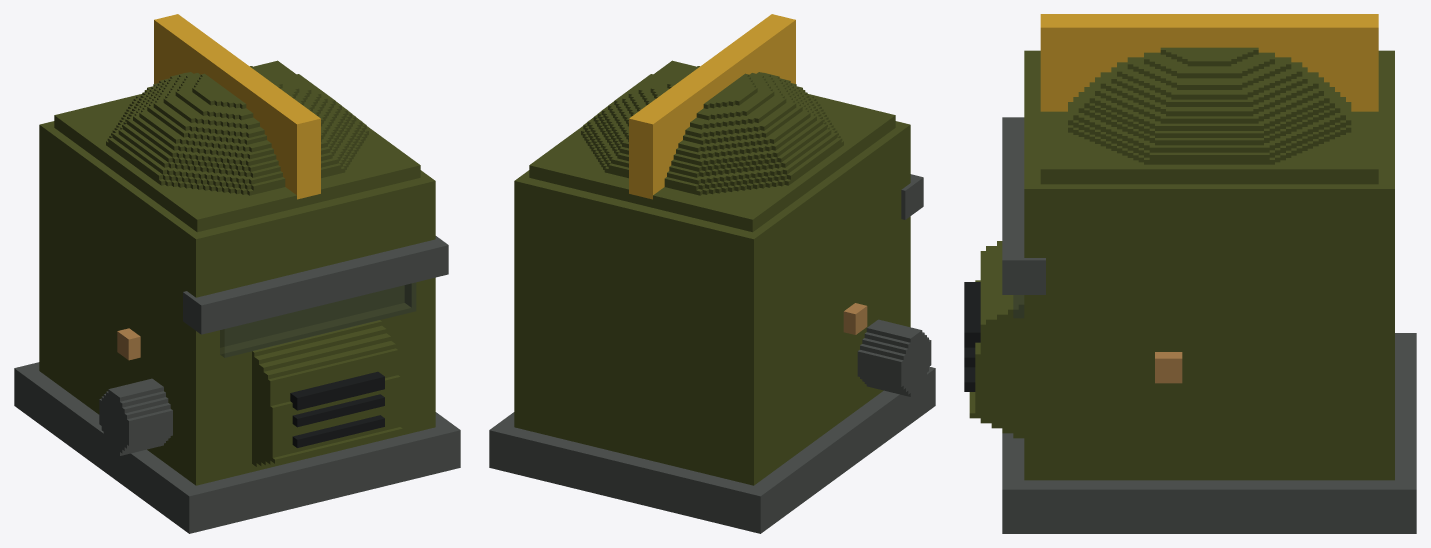
Rendered from helmet_trooper.glb.
The picture shows the model from 3 angles, left to right: view 1: azimuth 30°, elevation 25°; view 2: azimuth 150°, elevation 25°; view 3: azimuth 270°, elevation 25°; orthographic projection. The views are drawn at different scales.
Parts seen in each view (by area): view 1: helmet_trooper:compound; view 2: helmet_trooper:compound; view 3: helmet_trooper:compound.
Boxes of the visible parts, bbox=[...] form: helmet_trooper:compound: bbox=[14, 14, 460, 533]; helmet_trooper:compound: bbox=[489, 14, 935, 533]; helmet_trooper:compound: bbox=[964, 14, 1416, 533].
Size of the model in its own units: 0.3 by 0.352 by 0.332.
